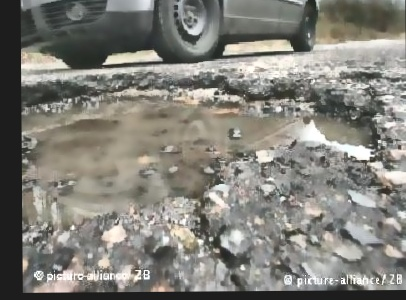pothole: (21, 64, 389, 246)
